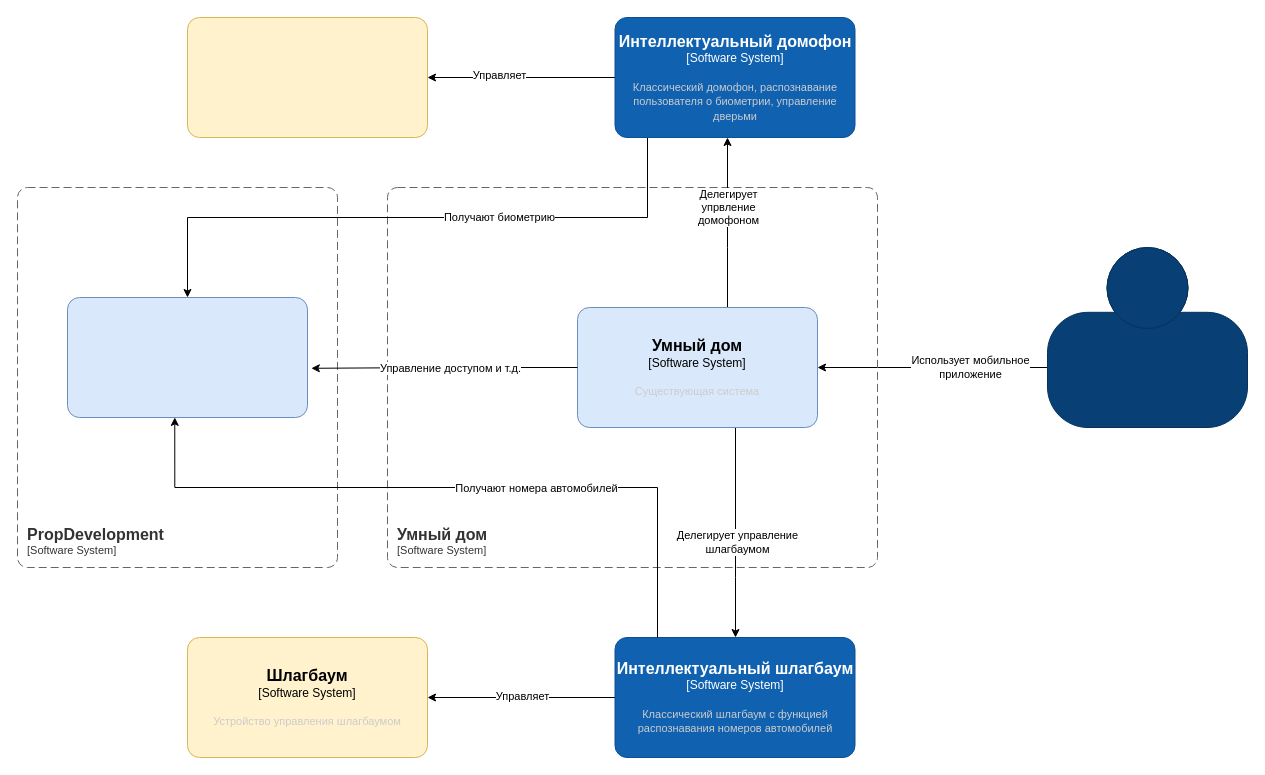
This 1265x775 diagram has some shape labels left out. The shapes that lost their labels are listed below. From the top down, each one's centre as x and y in pixels, then its label:
At (x=307, y=77): "Домофон [Software System] Устройство управления дверьми и камерами".
At (x=187, y=357): "PropDevelopment [Software System] Система содержит данные жильцов".
At (x=1147, y=337): "Клиент умного дома [Person]".
